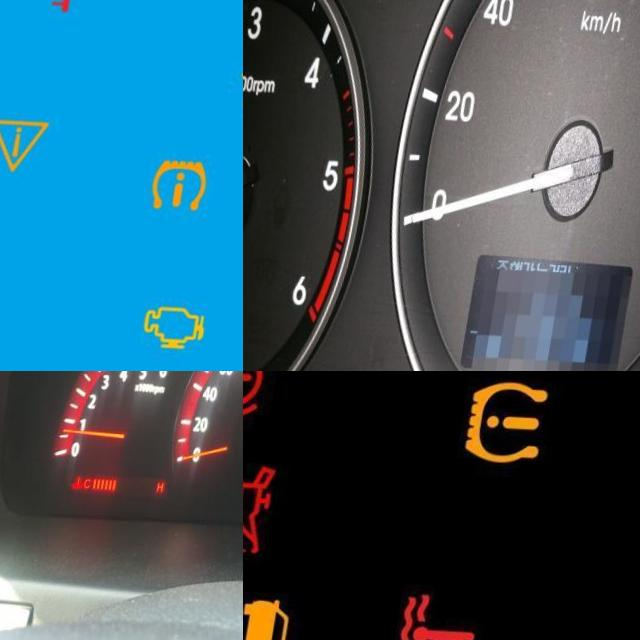High Engine Coolant Temperature: (32, 0, 113, 23)
